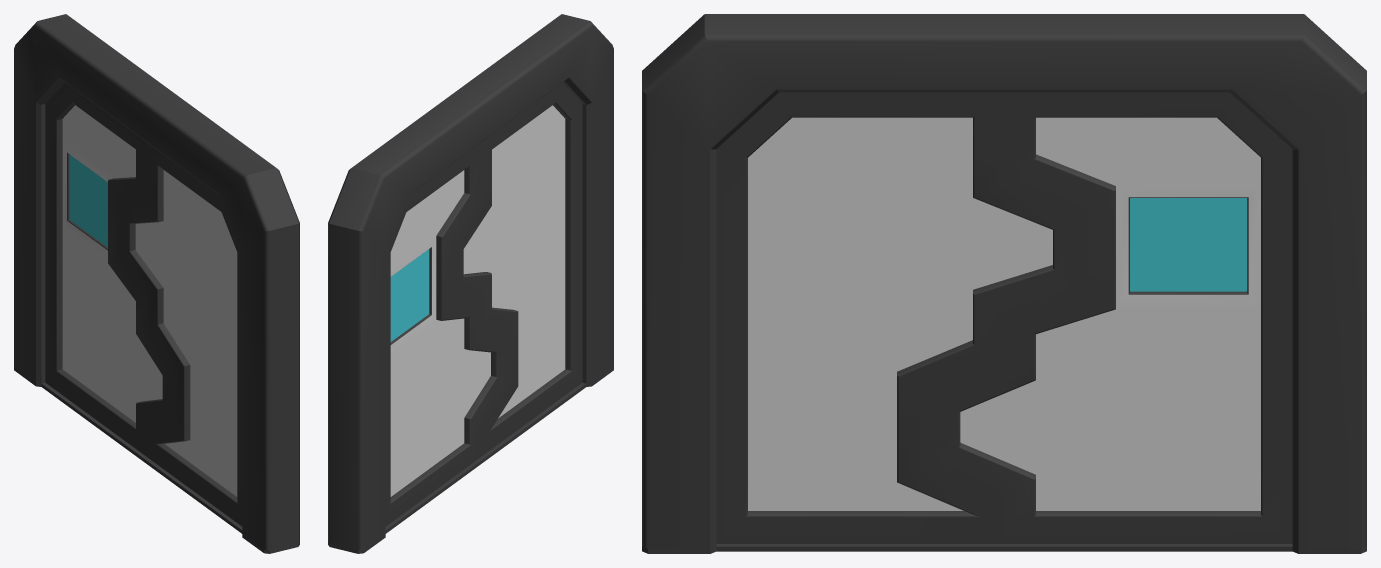
Rendered from scifidoor.fbx.
The picture shows the model from 3 angles, left to right: view 1: azimuth 30°, elevation 25°; view 2: azimuth 150°, elevation 25°; view 3: azimuth 270°, elevation 25°; orthographic projection. The views are drawn at different scales.
Visible parts, largest first — view 1: Frame, Door_Right, Door_Left; view 2: Frame, Door_Left, Door_Right; view 3: Frame, Door_Left, Door_Right.
Part boxes in pixels (box(x1,y1,x2,y2)): Frame: box(14, 14, 299, 553); Door_Right: box(45, 82, 172, 456); Door_Left: box(118, 142, 242, 526); Frame: box(328, 14, 613, 553); Door_Left: box(453, 82, 582, 456); Door_Right: box(385, 142, 507, 526); Frame: box(642, 14, 1366, 553); Door_Left: box(716, 92, 1084, 543); Door_Right: box(928, 92, 1292, 543).
Bounding box in the file's own units: 2988 × 28918 × 36703.
